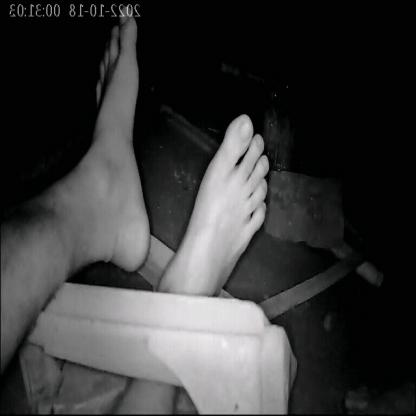leg: (6, 5, 156, 363), (152, 98, 284, 296)
